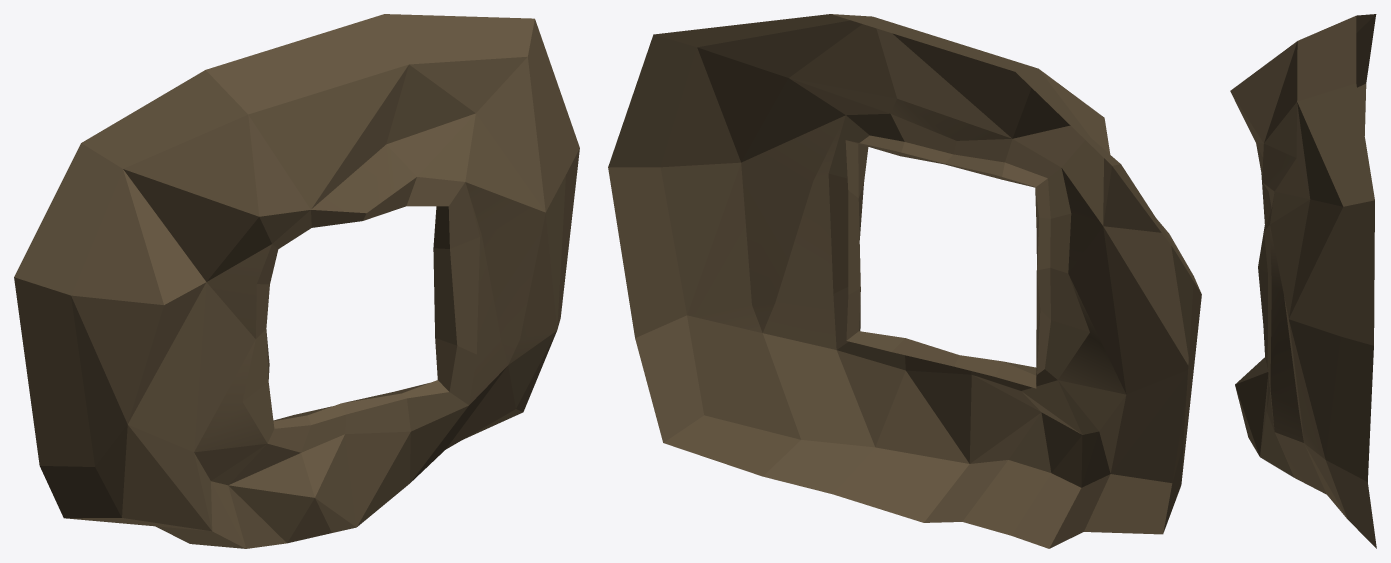
File: dungeon_SM_Env_Cave_Hole_01.gltf
3 renders of one model, left to right at view 1: azimuth 30°, elevation 25°; view 2: azimuth 150°, elevation 25°; view 3: azimuth 270°, elevation 25°, orthographic. The views are drawn at different scales.
Parts seen in each view (by area): view 1: SM_Env_Cave_Hole_01; view 2: SM_Env_Cave_Hole_01; view 3: SM_Env_Cave_Hole_01.
Part boxes in pixels (x1,y1,x2,y2): SM_Env_Cave_Hole_01: (14, 14, 579, 548); SM_Env_Cave_Hole_01: (608, 14, 1201, 548); SM_Env_Cave_Hole_01: (1230, 14, 1376, 548).
Bounding box in the file's own units: 16.3 × 13.09 × 4.03.
Materials: 1 (1 with a texture image).
